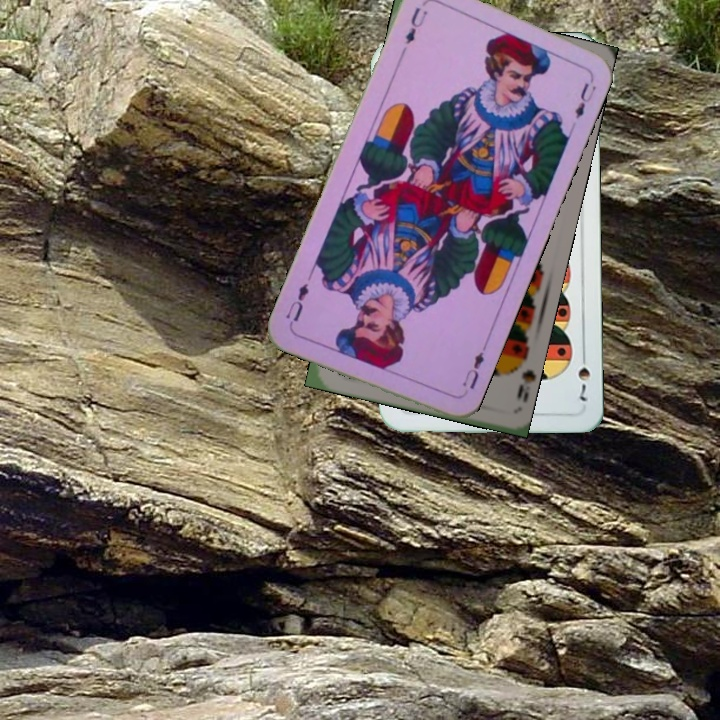EU: (458, 341, 489, 392), (401, 3, 431, 47)
S7: (574, 347, 593, 404)
S9: (505, 350, 534, 405)
